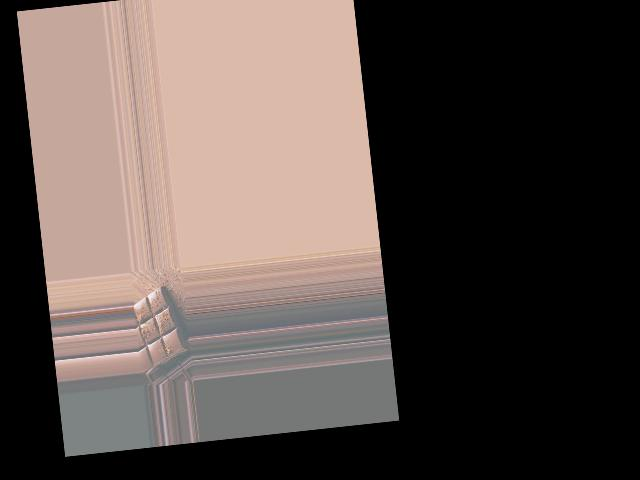chocolate: (132, 280, 188, 373)
